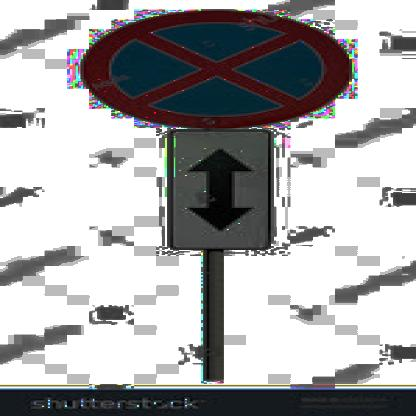No stopping: (76, 10, 350, 124)
